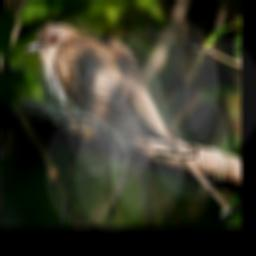Cuckoo: (22, 20, 232, 215)
